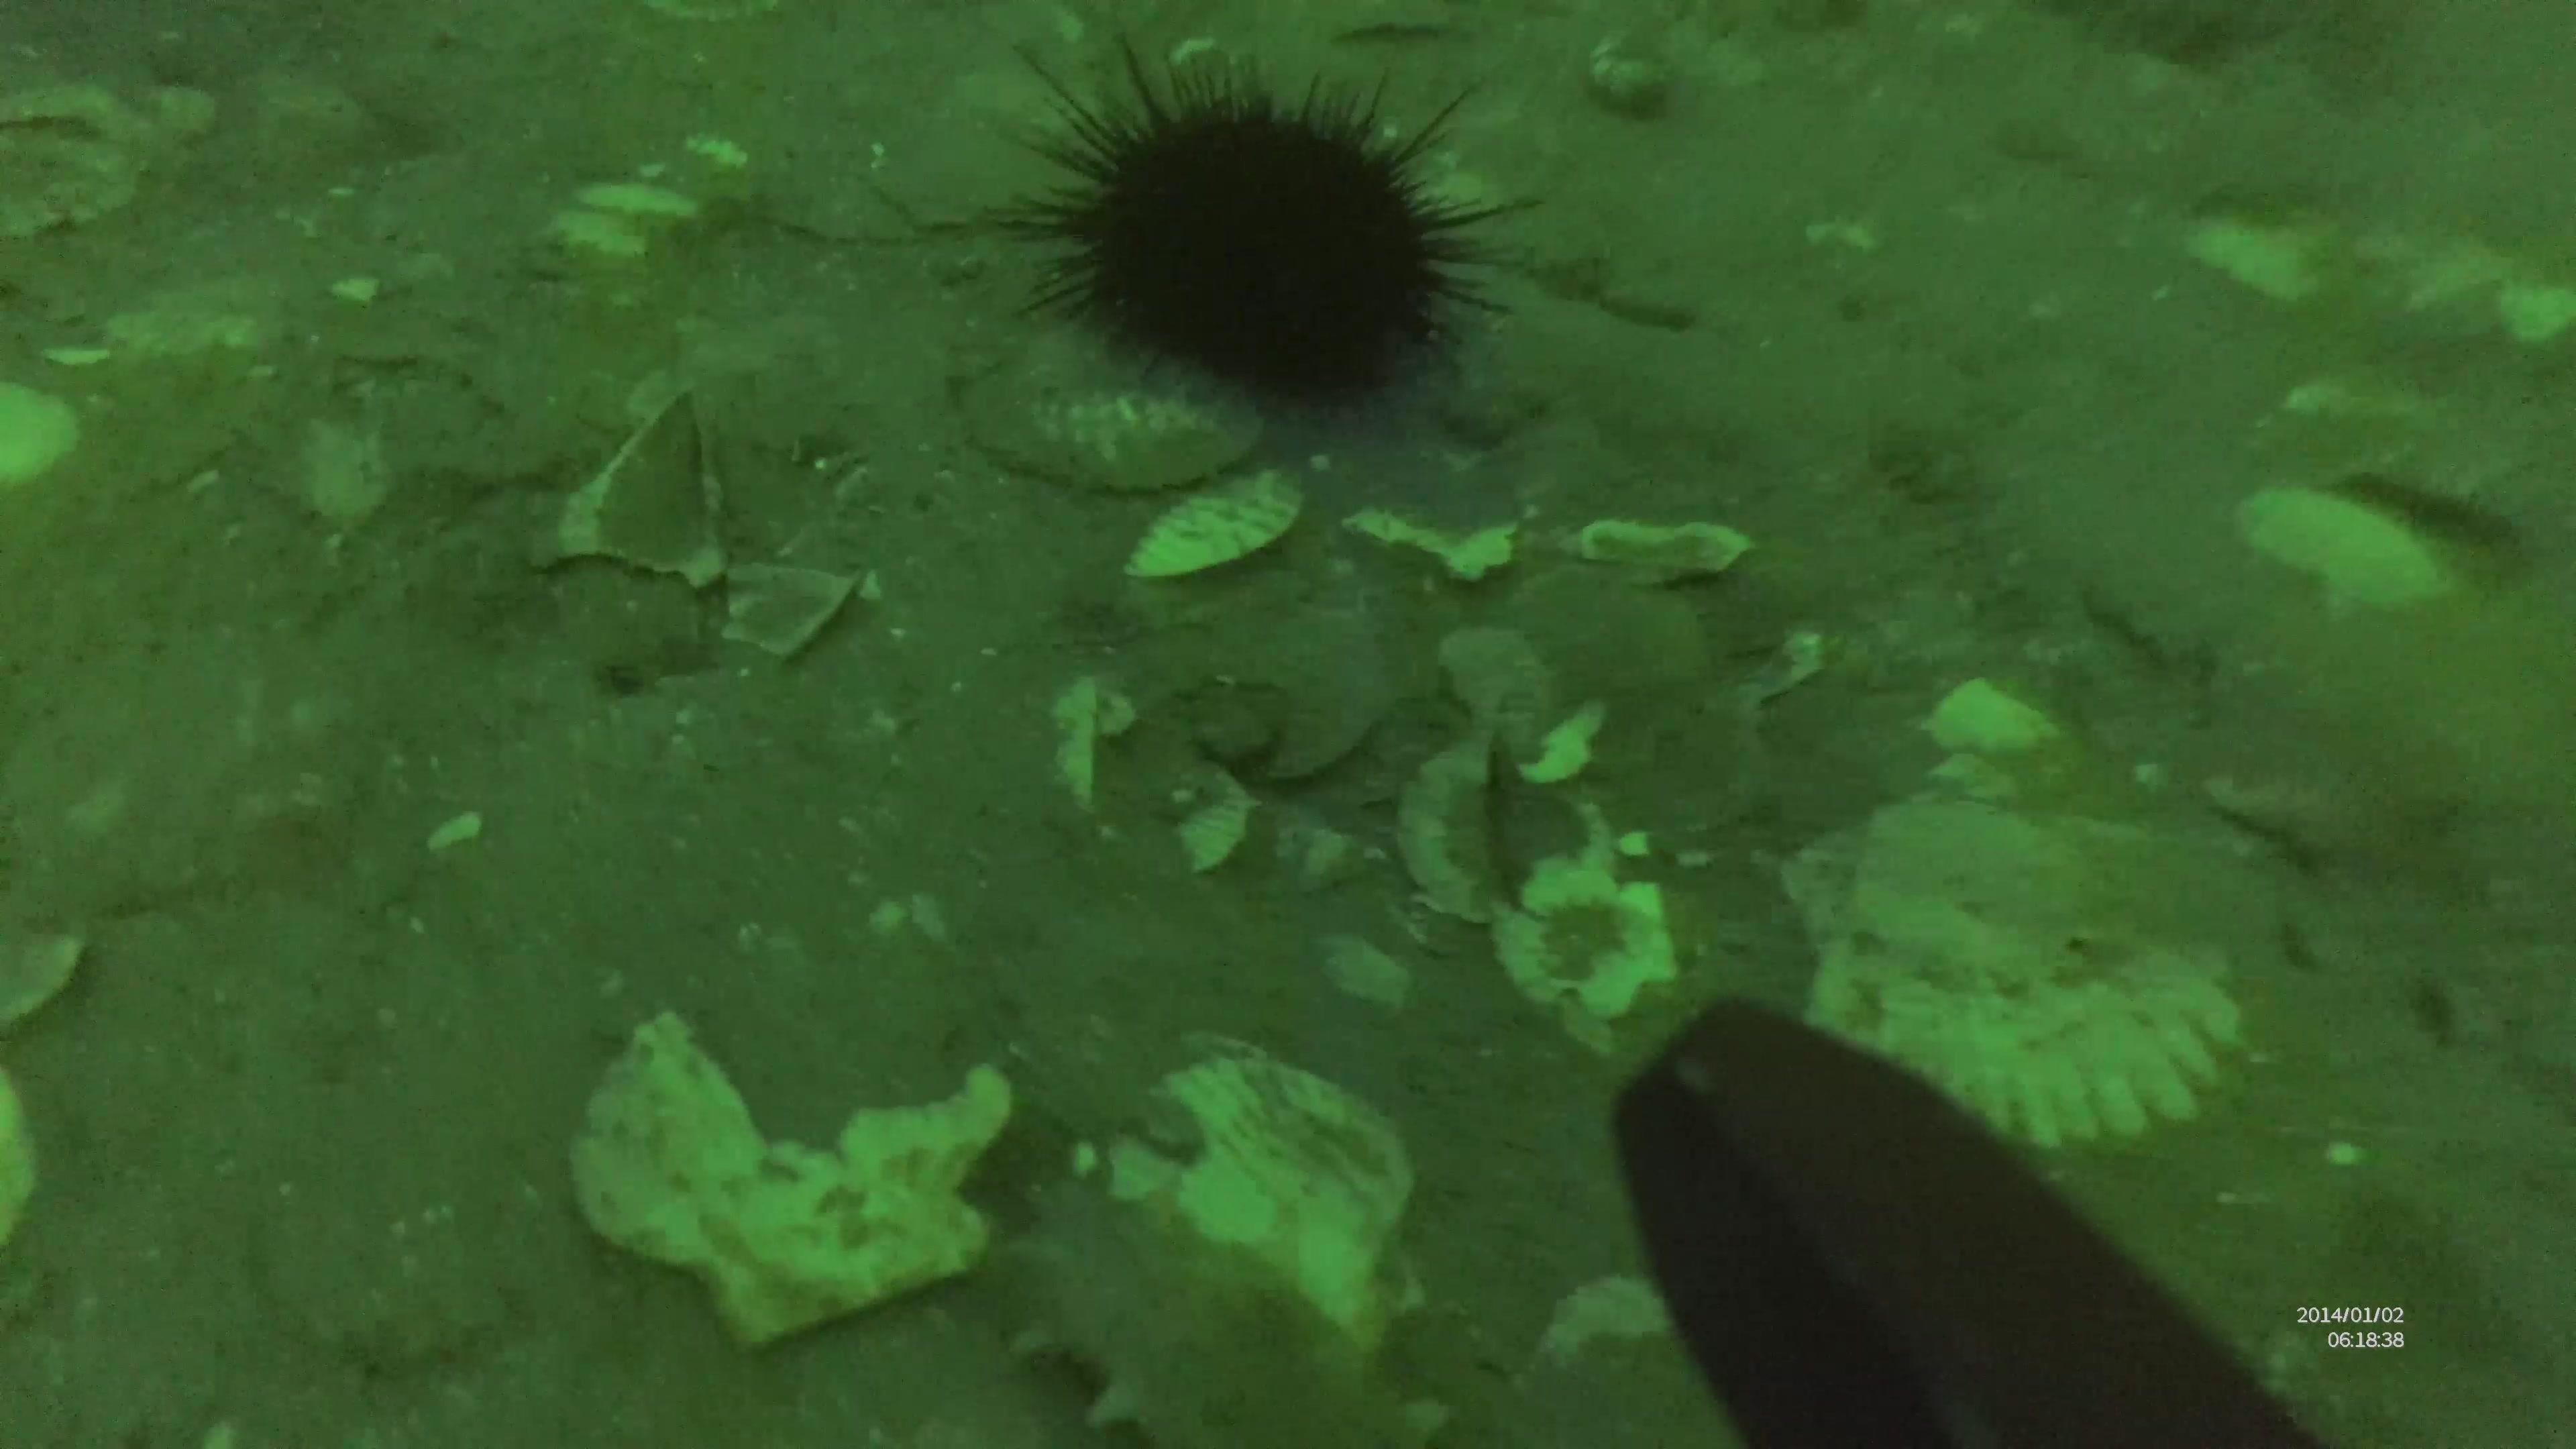echinus: (984, 35, 1532, 421)
holothurian: (1000, 1175, 1453, 1449)
scallop: (1778, 784, 2268, 1161), (1108, 1039, 1428, 1338)
